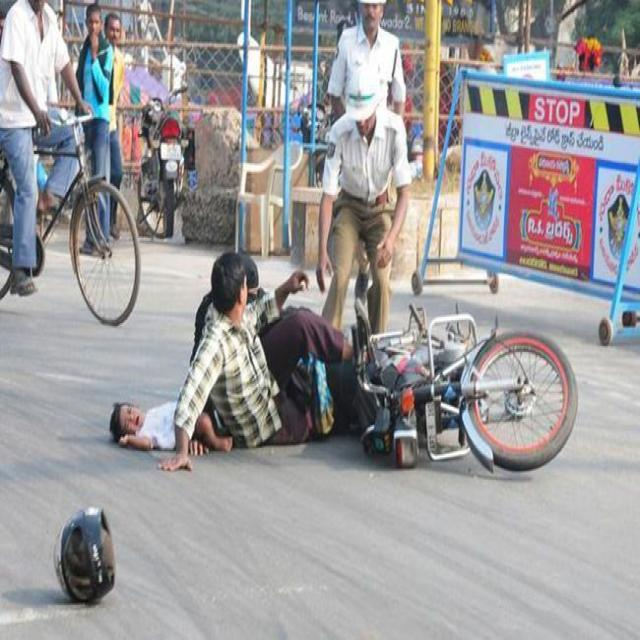accident: (354, 302, 578, 470)
motorcycle: (138, 85, 186, 238)
